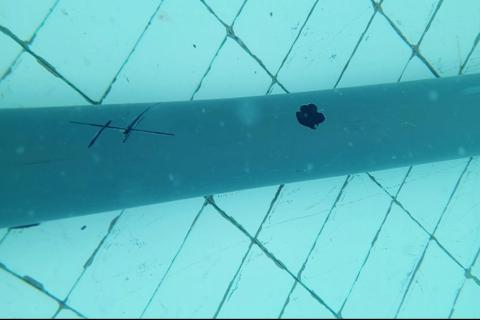kebocoran: (294, 101, 326, 134)
keretakan: (67, 109, 175, 150)
